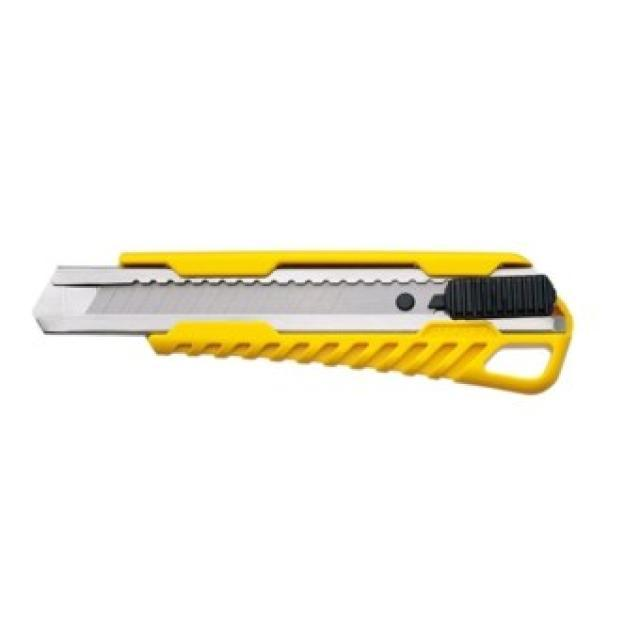cutter: (25, 228, 588, 404)
